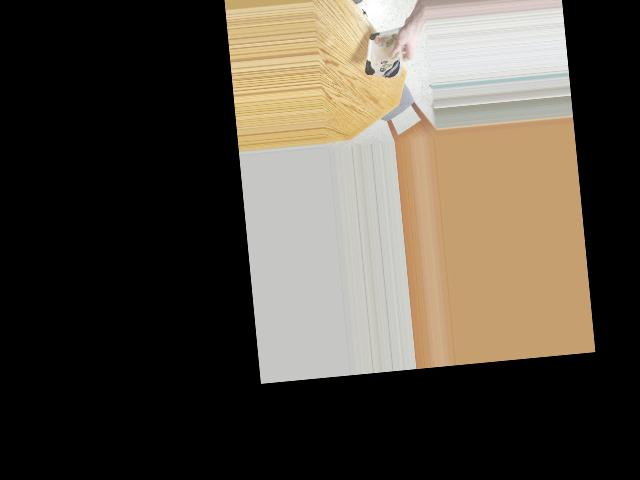cheese: (363, 19, 408, 81)
